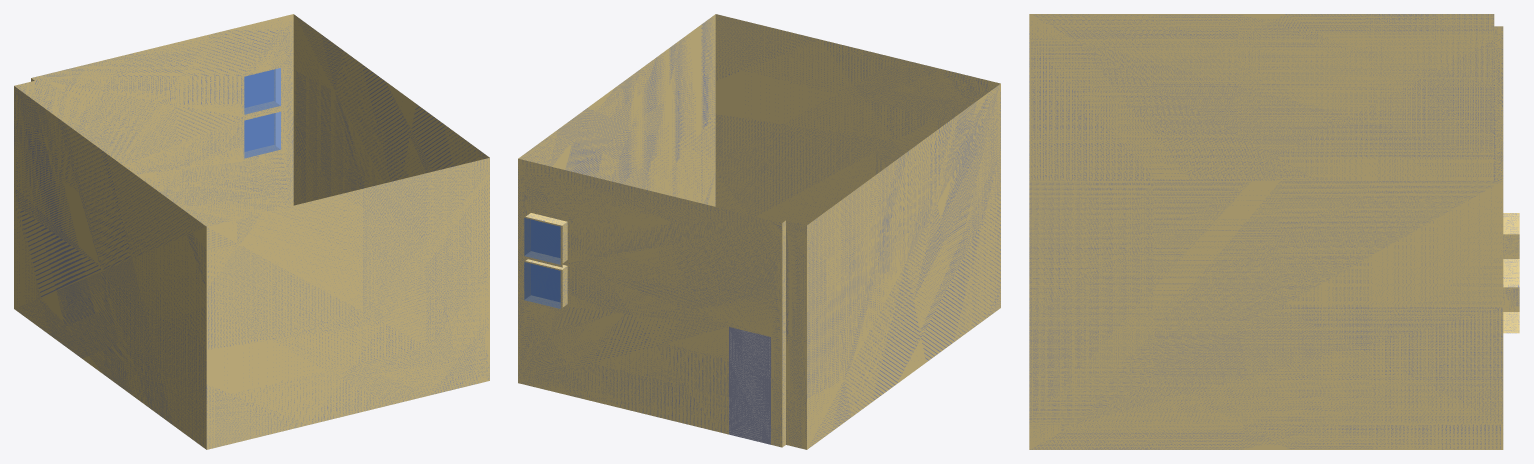
Rendered from CUA006.obj.
3 renders of one model, left to right at view 1: azimuth 30°, elevation 25°; view 2: azimuth 150°, elevation 25°; view 3: azimuth 270°, elevation 25°, orthographic. The views are drawn at different scales.
Parts seen in each view (by area): view 1: Mesh9 CUA006 Model, Mesh5 Group2 CUA006 Model, Mesh1 Group1 CUA006 Model; view 2: Mesh9 CUA006 Model, Mesh5 Group2 CUA006 Model, Mesh1 Group1 CUA006 Model; view 3: Mesh9 CUA006 Model, Mesh5 Group2 CUA006 Model, Mesh1 Group1 CUA006 Model.
Part boxes in pixels (x1=…): Mesh9 CUA006 Model: x1=14, y1=14, x2=489, y2=449; Mesh5 Group2 CUA006 Model: x1=242, y1=66, x2=282, y2=117; Mesh1 Group1 CUA006 Model: x1=242, y1=110, x2=282, y2=160; Mesh9 CUA006 Model: x1=518, y1=14, x2=1000, y2=449; Mesh5 Group2 CUA006 Model: x1=522, y1=211, x2=569, y2=267; Mesh1 Group1 CUA006 Model: x1=522, y1=259, x2=569, y2=311; Mesh9 CUA006 Model: x1=1029, y1=14, x2=1503, y2=449; Mesh5 Group2 CUA006 Model: x1=1503, y1=213, x2=1519, y2=280; Mesh1 Group1 CUA006 Model: x1=1503, y1=280, x2=1519, y2=333.
Bounding box in the file's own units: 5.46 × 4.11 × 6.78.
